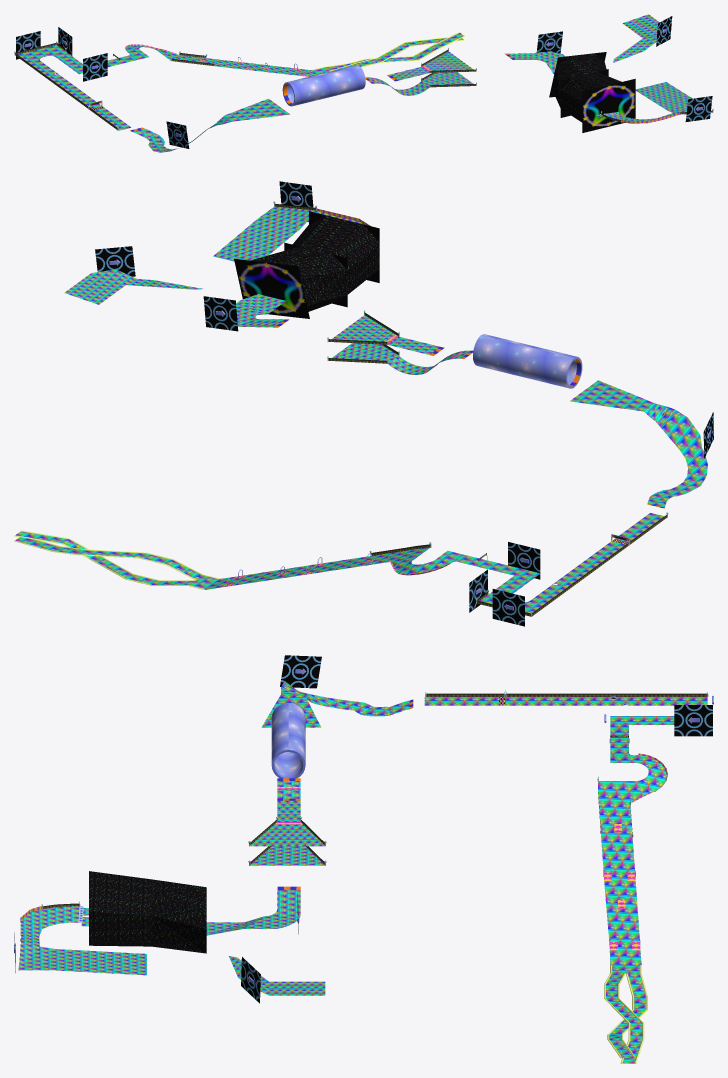
3 views of the same model, one above another, from view 1: azimuth 30°, elevation 25°; view 2: azimuth 150°, elevation 25°; view 3: azimuth 270°, elevation 25° (orthographic). The views are drawn at different scales.
Parts seen in each view (by area): view 1: course_model-SKP--Road, course_model-SKP--arrowRing, course_model-SKP--StarPost, course_model-SKP--starbits, course_model-SKP--tunnel, course_model-SKP--fence, course_model-SKP--JumpPad, course_model-SKP--Boost; view 2: course_model-SKP--Road, course_model-SKP--starbits, course_model-SKP--arrowRing, course_model-SKP--tunnel, course_model-SKP--StarPost, course_model-SKP--fence, course_model-SKP--JumpPad; view 3: course_model-SKP--Road, course_model-SKP--starbits, course_model-SKP--arrowRing, course_model-SKP--tunnel, course_model-SKP--fence, course_model-SKP--JumpPad, course_model-SKP--Boost.
Part boxes in pixels (x1=…): course_model-SKP--Road: x1=18, y1=14, x2=692, y2=152; course_model-SKP--arrowRing: x1=16, y1=16, x2=712, y2=148; course_model-SKP--StarPost: x1=549, y1=52, x2=635, y2=132; course_model-SKP--starbits: x1=551, y1=53, x2=621, y2=122; course_model-SKP--tunnel: x1=113, y1=55, x2=365, y2=106; course_model-SKP--fence: x1=15, y1=43, x2=712, y2=129; course_model-SKP--JumpPad: x1=311, y1=32, x2=464, y2=71; course_model-SKP--Boost: x1=125, y1=44, x2=679, y2=123; course_model-SKP--Road: x1=15, y1=206, x2=707, y2=613; course_model-SKP--starbits: x1=250, y1=215, x2=379, y2=311; course_model-SKP--arrowRing: x1=95, y1=181, x2=713, y2=626; course_model-SKP--tunnel: x1=227, y1=334, x2=582, y2=586; course_model-SKP--StarPost: x1=234, y1=211, x2=379, y2=318; course_model-SKP--fence: x1=275, y1=204, x2=666, y2=616; course_model-SKP--JumpPad: x1=14, y1=530, x2=219, y2=589; course_model-SKP--Road: x1=19, y1=681, x2=707, y2=1063; course_model-SKP--starbits: x1=89, y1=871, x2=206, y2=953; course_model-SKP--arrowRing: x1=14, y1=655, x2=712, y2=1003; course_model-SKP--tunnel: x1=271, y1=702, x2=640, y2=945; course_model-SKP--fence: x1=19, y1=693, x2=706, y2=964; course_model-SKP--JumpPad: x1=604, y1=965, x2=647, y2=1063; course_model-SKP--Boost: x1=20, y1=753, x2=667, y2=950.
Bounding box in the file's own units: 126446 × 29938 × 113180.
Materials: 16 (16 with a texture image).
